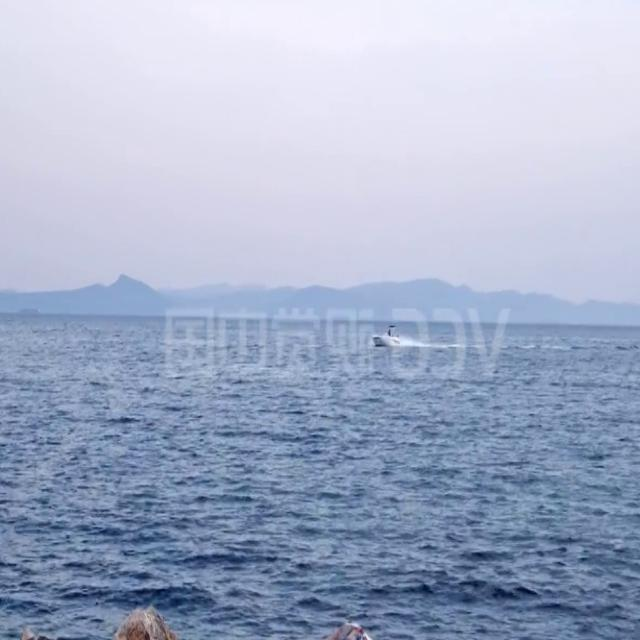houseboat: (372, 320, 402, 345)
